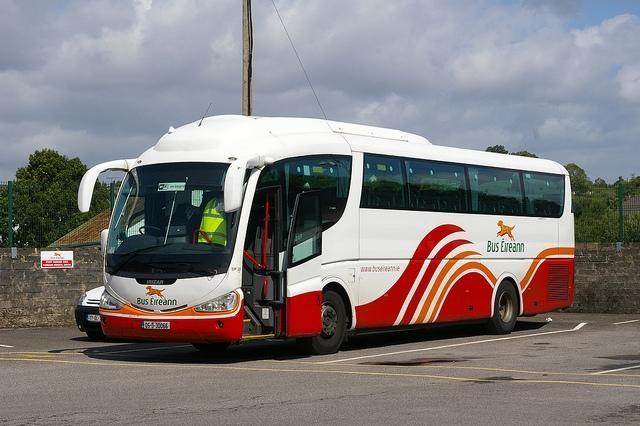bus: (77, 111, 578, 355)
car: (74, 286, 106, 342)
